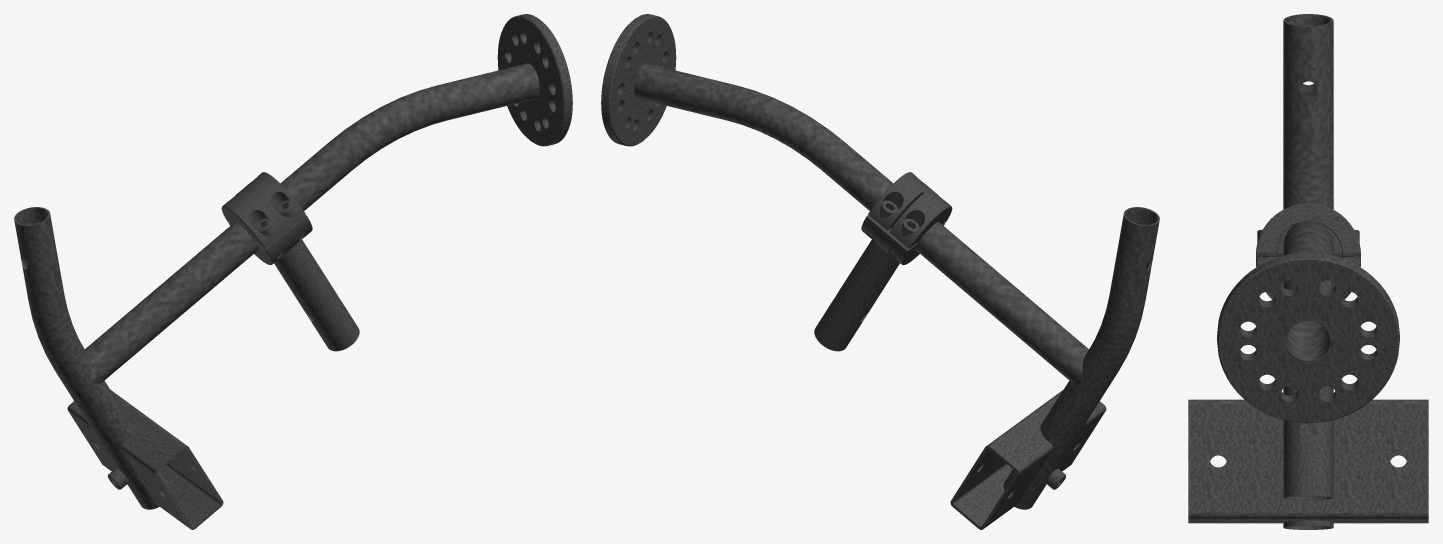
The model's file is hookHands.obj.
3 renders of one model, left to right at view 1: azimuth 30°, elevation 25°; view 2: azimuth 150°, elevation 25°; view 3: azimuth 270°, elevation 25°, orthographic. The views are drawn at different scales.
Visible parts, largest first — view 1: 1; view 2: 1; view 3: 1.
Part boxes in pixels (bbox=[...]): 1: bbox=[14, 14, 572, 529]; 1: bbox=[601, 14, 1159, 529]; 1: bbox=[1188, 14, 1428, 529].
Bounding box in the file's own units: 0.2622 × 0.1879 × 0.0762.
1 material, 1 textured.
